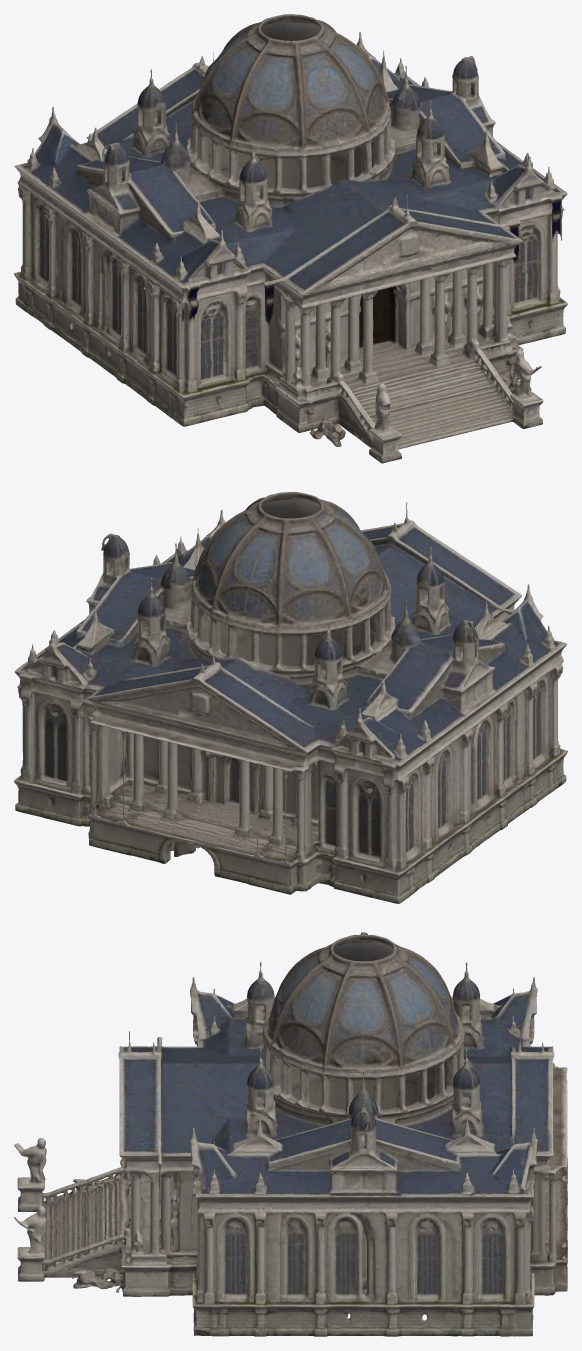
The model's file is bibliothek.glb.
3 renders of one model, top to bottom at view 1: azimuth 30°, elevation 25°; view 2: azimuth 150°, elevation 25°; view 3: azimuth 270°, elevation 25°, orthographic.
Bounding box in the file's own units: 1.55 × 1.11 × 1.9.
1 material, 1 textured.
